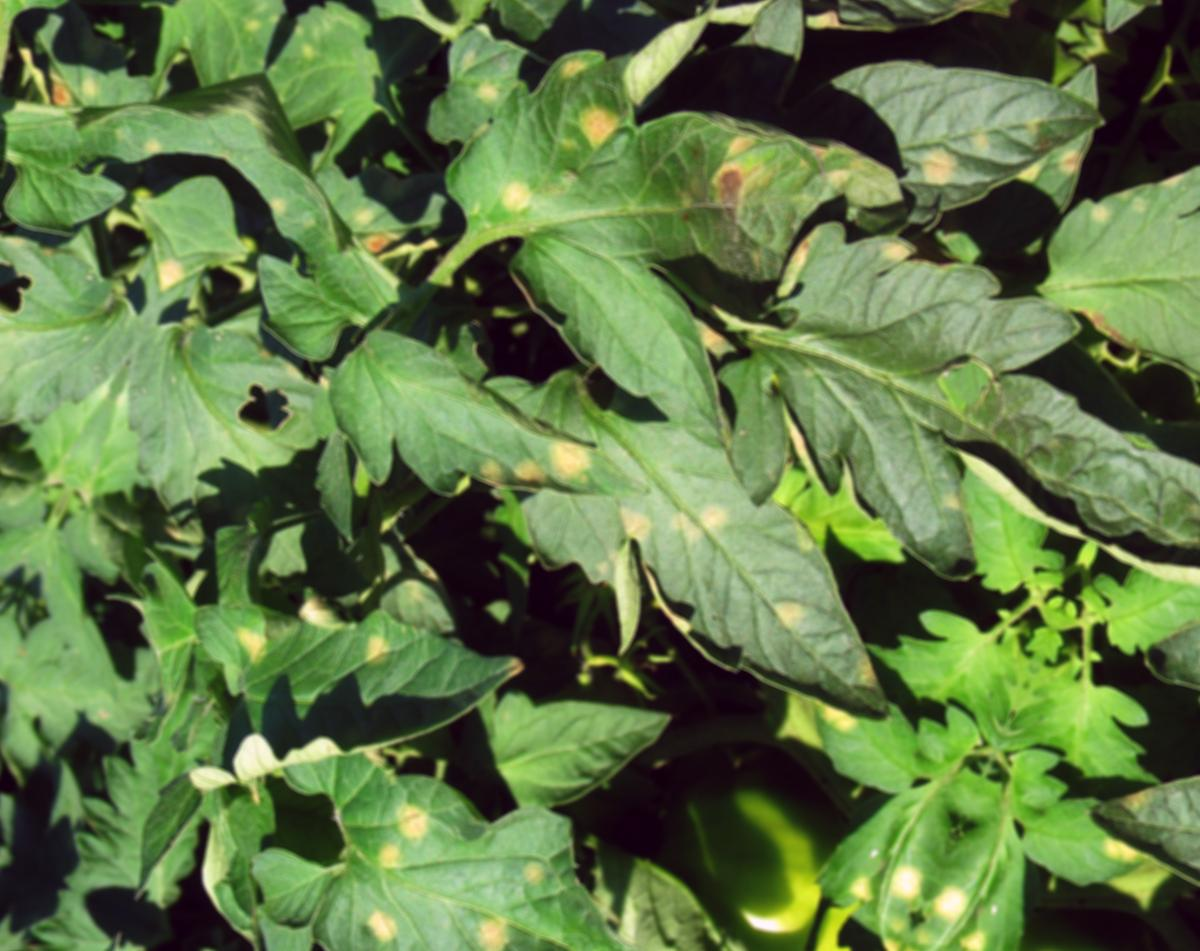Tomato mold leaf: (375, 0, 912, 468), (441, 337, 971, 780), (688, 169, 1144, 616), (198, 715, 749, 951), (143, 526, 514, 875), (771, 0, 1122, 295), (304, 312, 668, 574)
